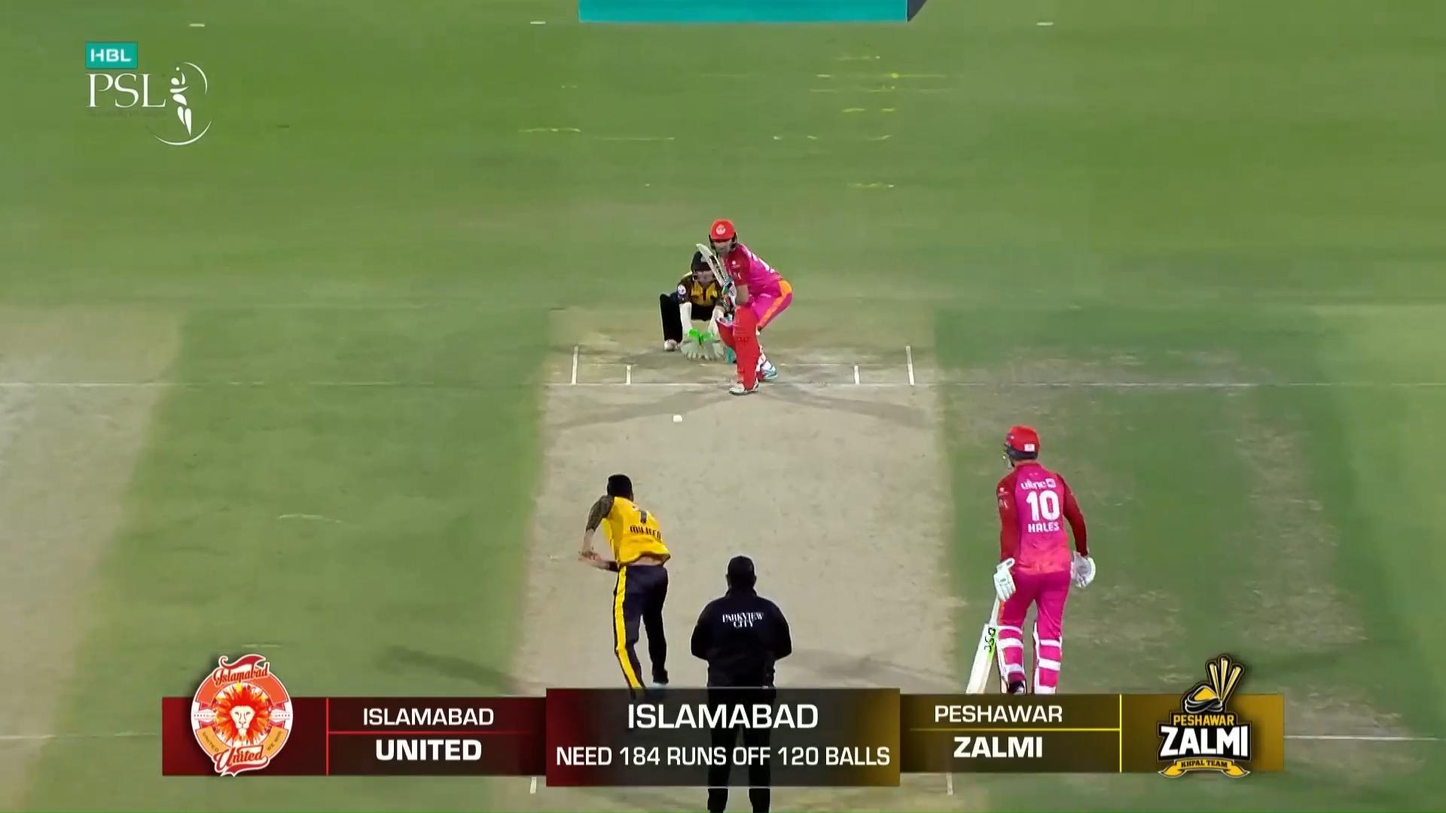batsman: (696, 219, 793, 396)
